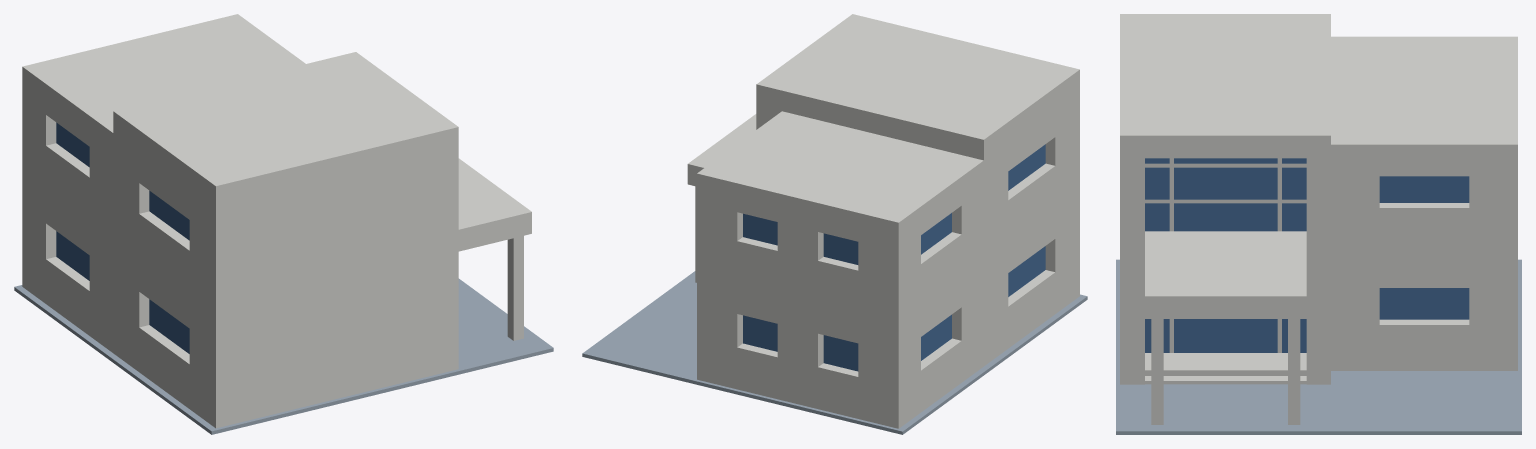
File: hospital.glb
3 views of the same model, side by side, from view 1: azimuth 30°, elevation 25°; view 2: azimuth 150°, elevation 25°; view 3: azimuth 270°, elevation 25° (orthographic). The views are drawn at different scales.
Parts seen in each view (by area): view 1: hospital; view 2: hospital; view 3: hospital.
Boxes of the visible parts, x1,y1,x2,y2 form: hospital: [14, 14, 553, 434]; hospital: [582, 14, 1087, 434]; hospital: [1116, 14, 1521, 434].
Bounding box in the file's own units: 10 × 6.86 × 10.
